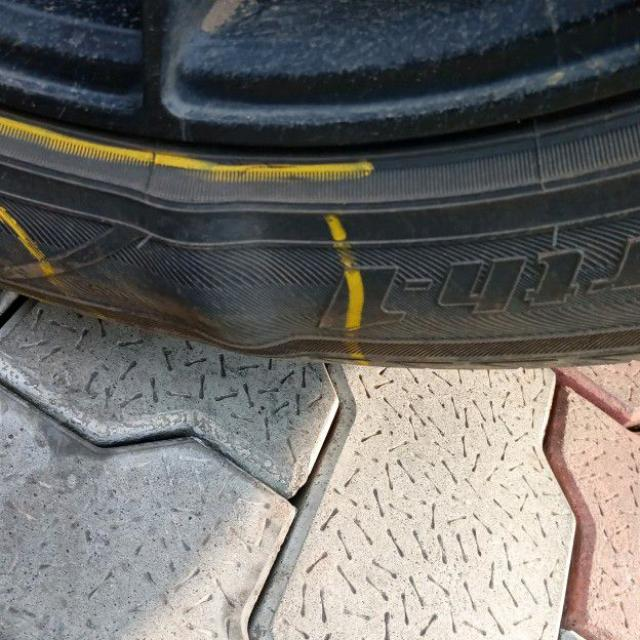Bulge: (141, 173, 281, 353)
